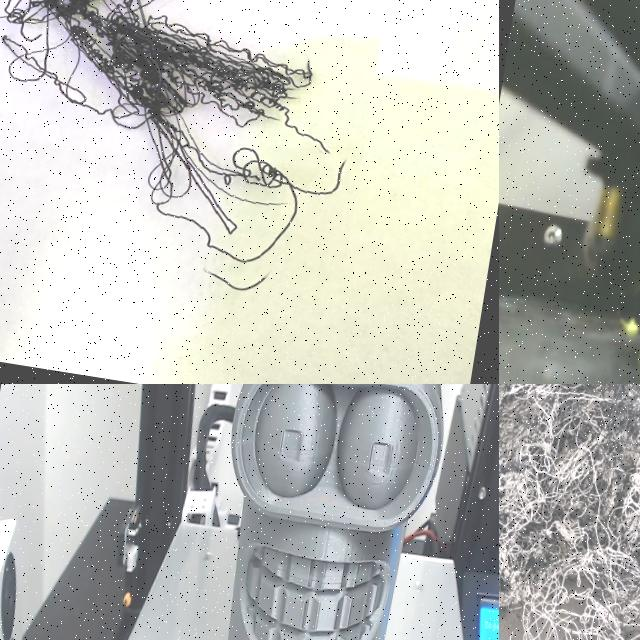spaghetti: (0, 0, 407, 320), (499, 384, 640, 640)
